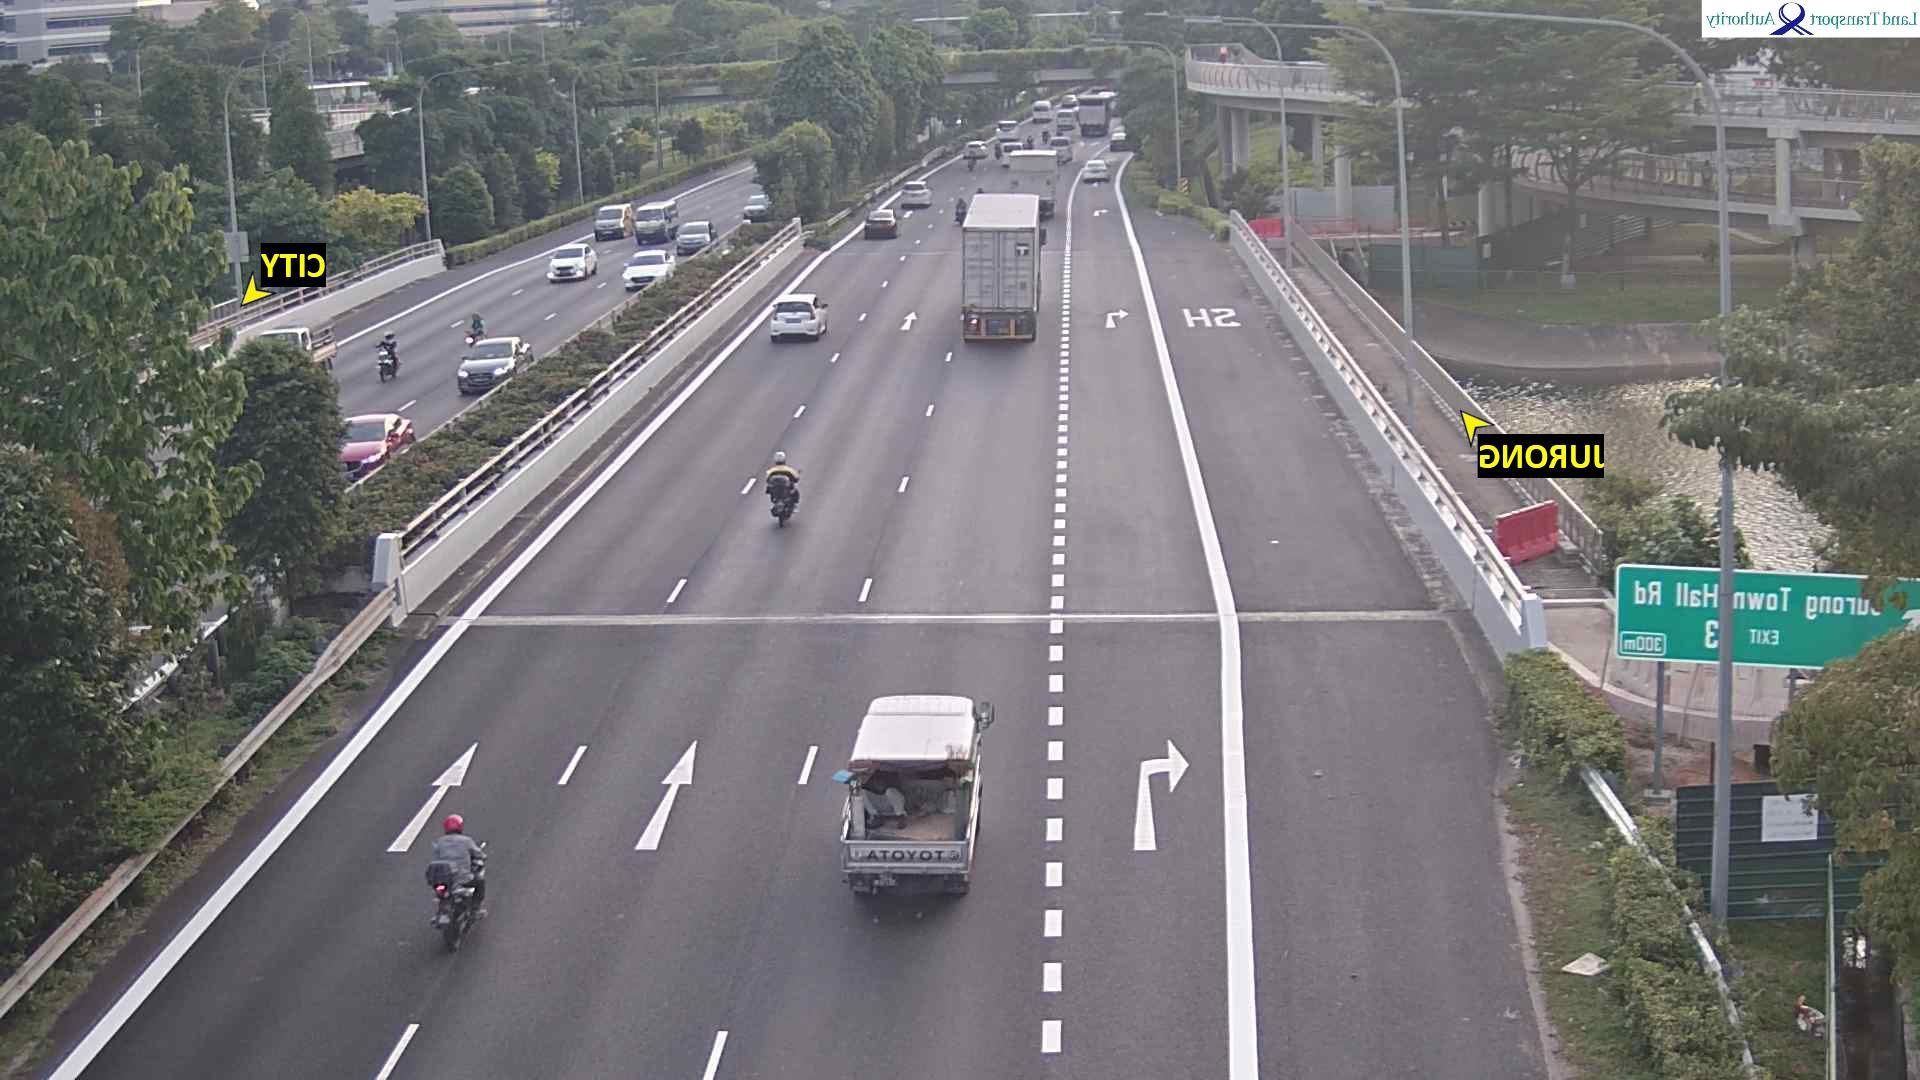cars: (339, 411, 417, 477), (458, 335, 535, 396), (770, 291, 829, 342), (622, 248, 676, 290), (633, 199, 678, 247), (547, 243, 599, 281), (595, 202, 634, 240), (676, 219, 717, 255), (865, 206, 899, 237), (902, 179, 934, 207), (744, 193, 773, 222), (996, 138, 1023, 167), (1081, 158, 1112, 183), (964, 138, 988, 169), (1050, 135, 1073, 164), (1033, 98, 1054, 123), (1110, 123, 1129, 149), (1056, 108, 1077, 131), (997, 117, 1019, 135)
motorcycle: (429, 840, 491, 953), (767, 473, 800, 527), (463, 309, 489, 351), (377, 342, 401, 382), (956, 198, 967, 224), (1023, 136, 1035, 146), (1042, 129, 1050, 144)
trucks: (836, 692, 996, 898), (961, 191, 1046, 343), (255, 320, 339, 375), (1006, 149, 1058, 216), (1077, 98, 1113, 138)
